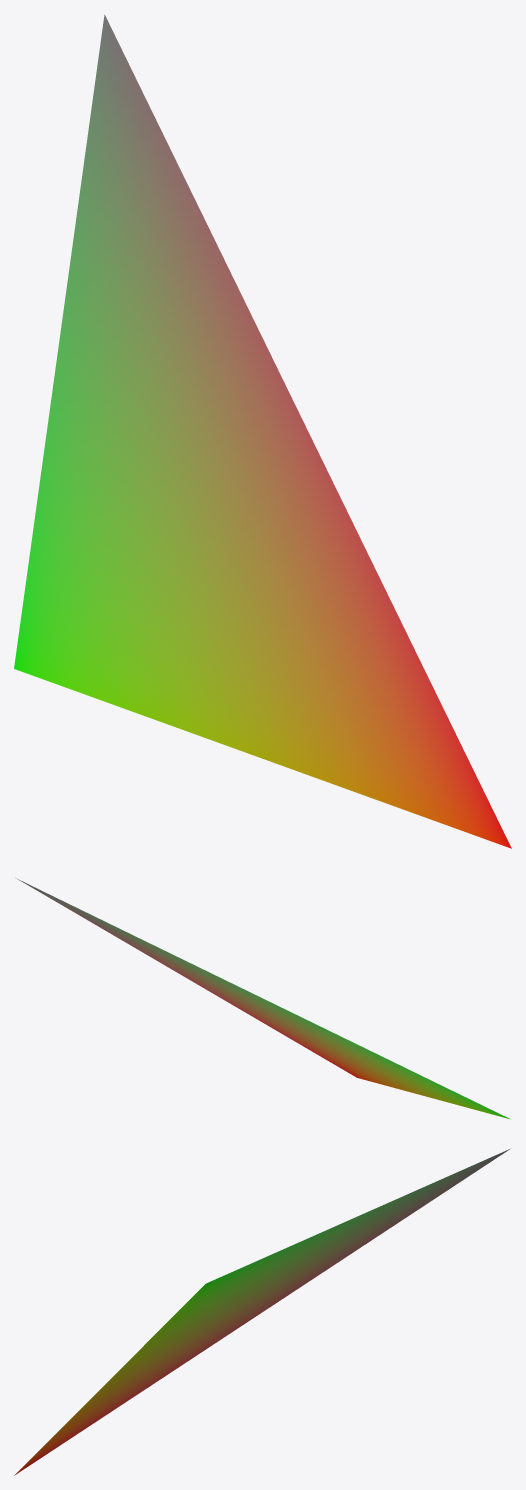
Rendered from start_border_patch_18.obj.
The picture shows the model from 3 angles, top to bottom: view 1: azimuth 30°, elevation 25°; view 2: azimuth 150°, elevation 25°; view 3: azimuth 270°, elevation 25°; orthographic projection. The views are drawn at different scales.
Bounding box in the file's own units: 0.4595 × 0.691 × 0.9511.
